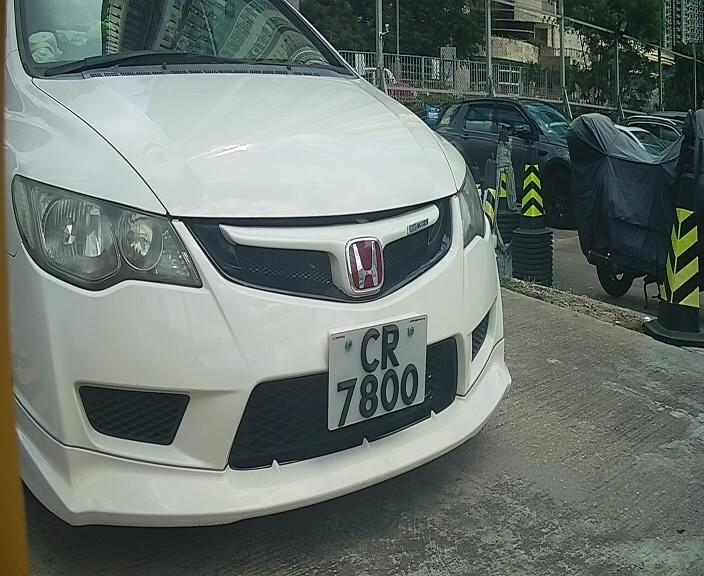License Plate: (321, 304, 428, 440)
